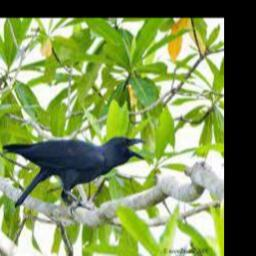Crow: (2, 134, 146, 209)
